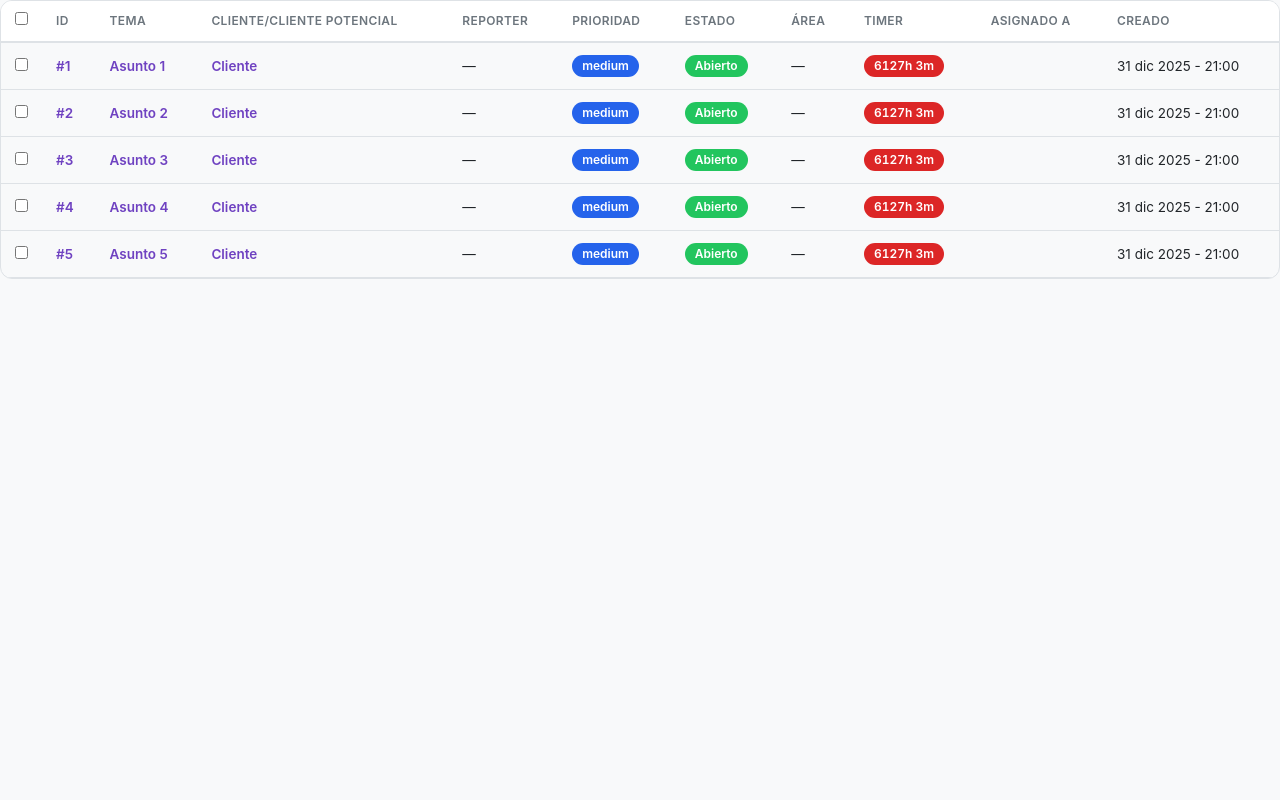
Test: TicketsTableView — bulk execution › partial failure (2/5): toast "2 de 5 no se pudieron asignar" and only failed ids stay selected
Click the checkbox named "Seleccionar todos" at (22, 18), box [15,12,28,25]
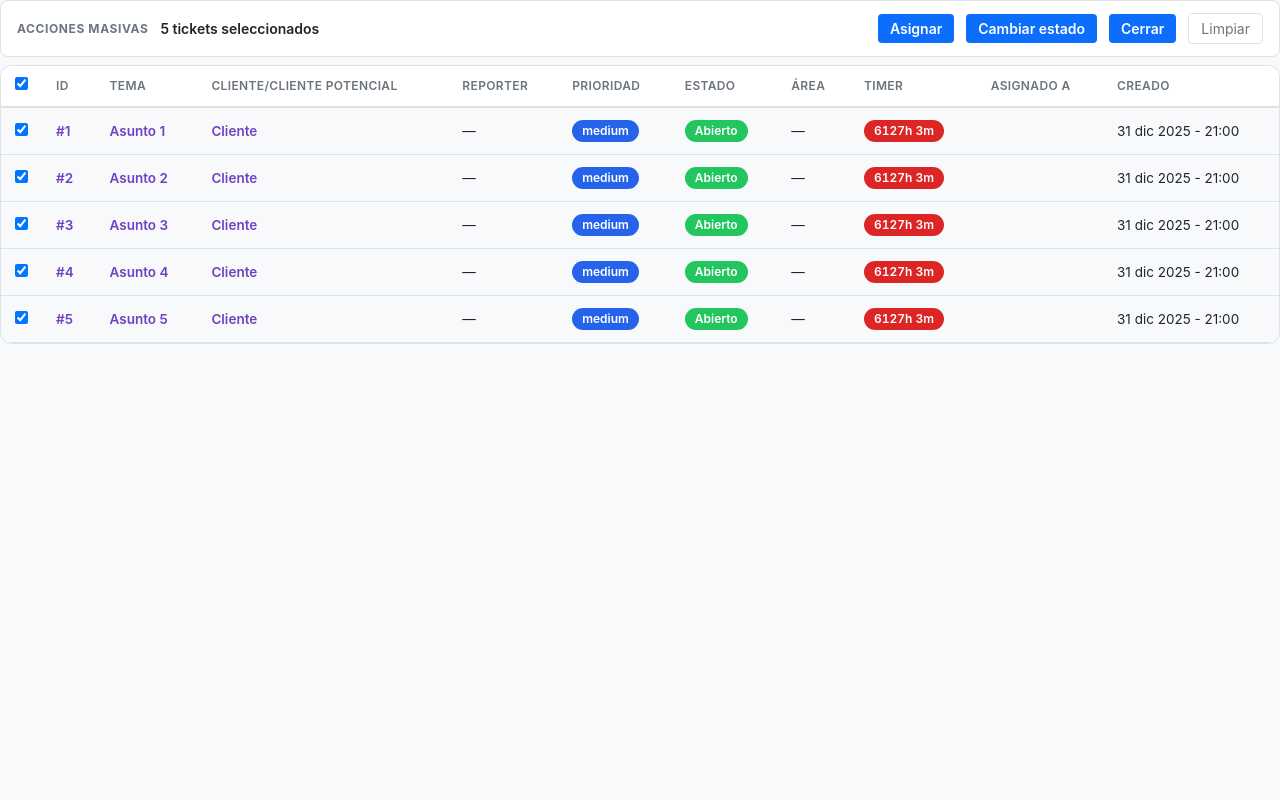
Click the button "Asignar" at (916, 28), box [878,14,954,43]
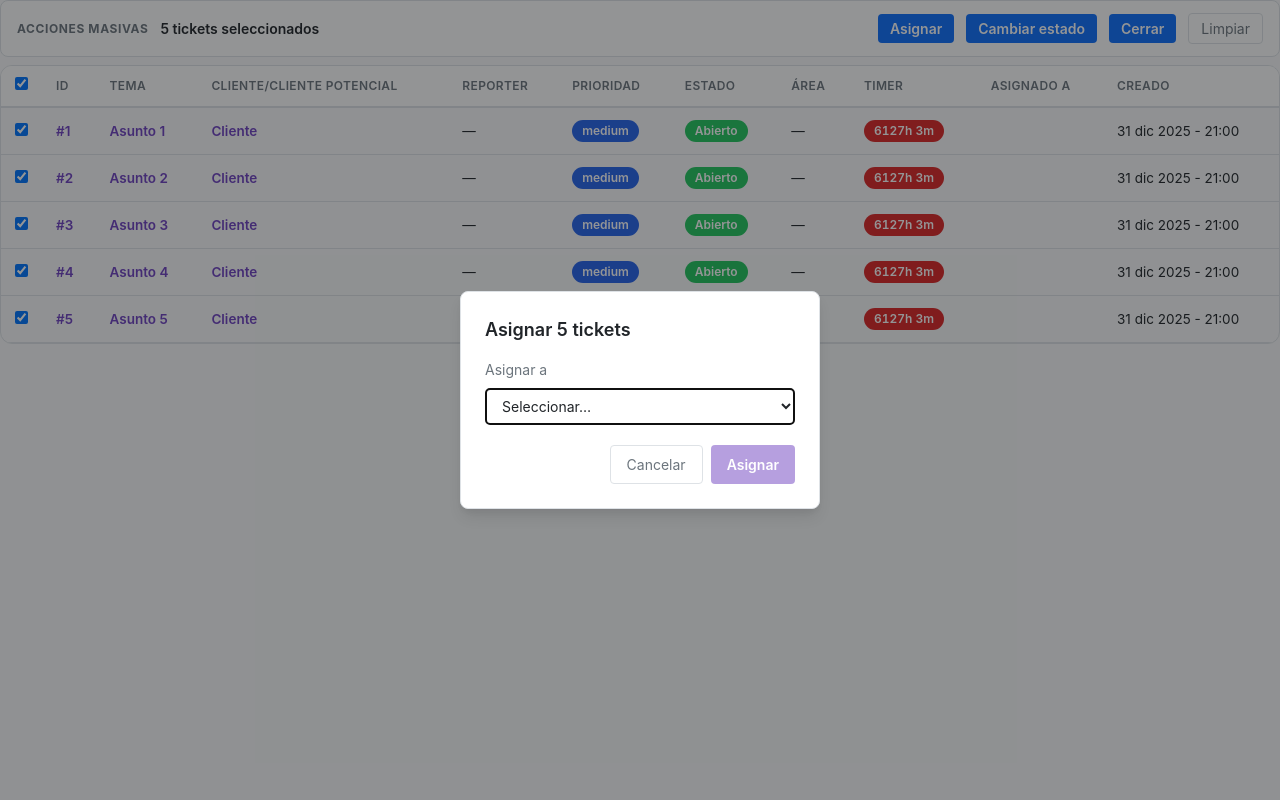
Select "Luis" in the dropdown at (640, 406), box [485,388,795,425]
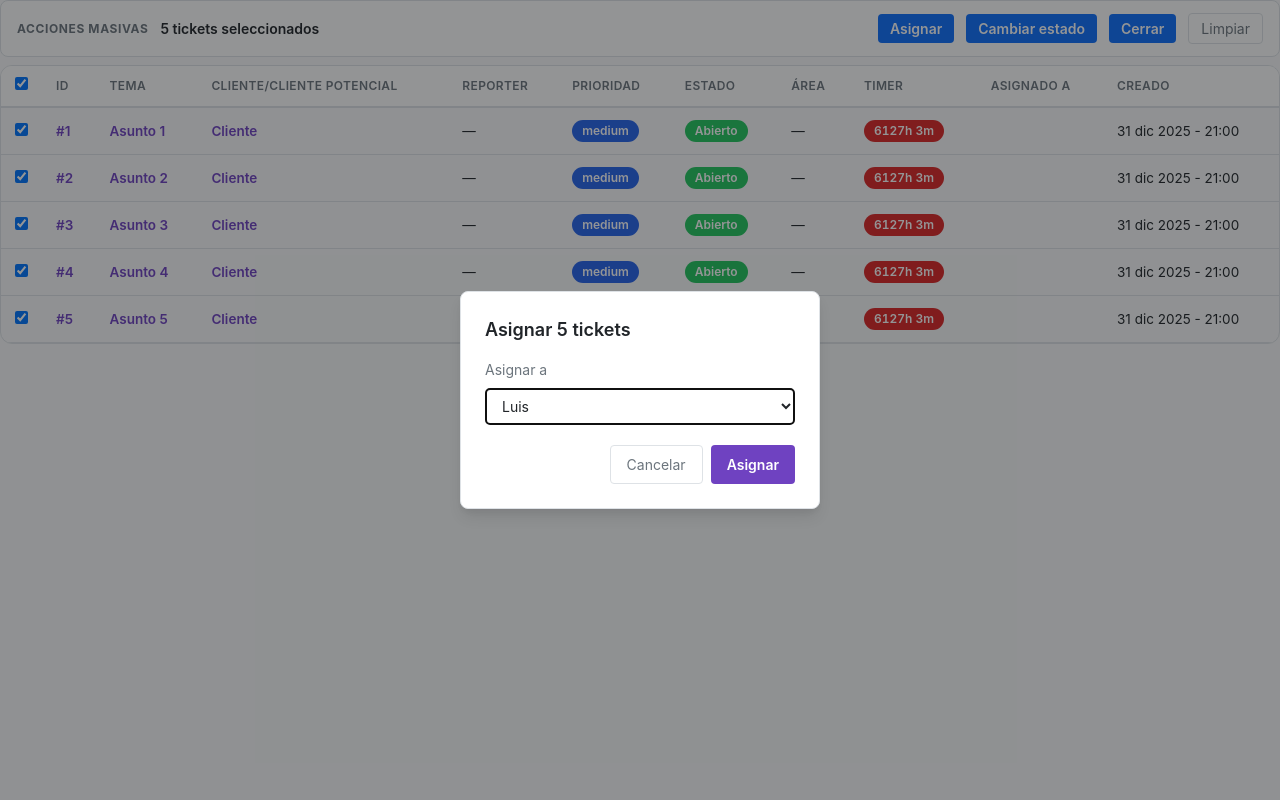
Click the button "Asignar" at (753, 464), box [711,445,795,484]
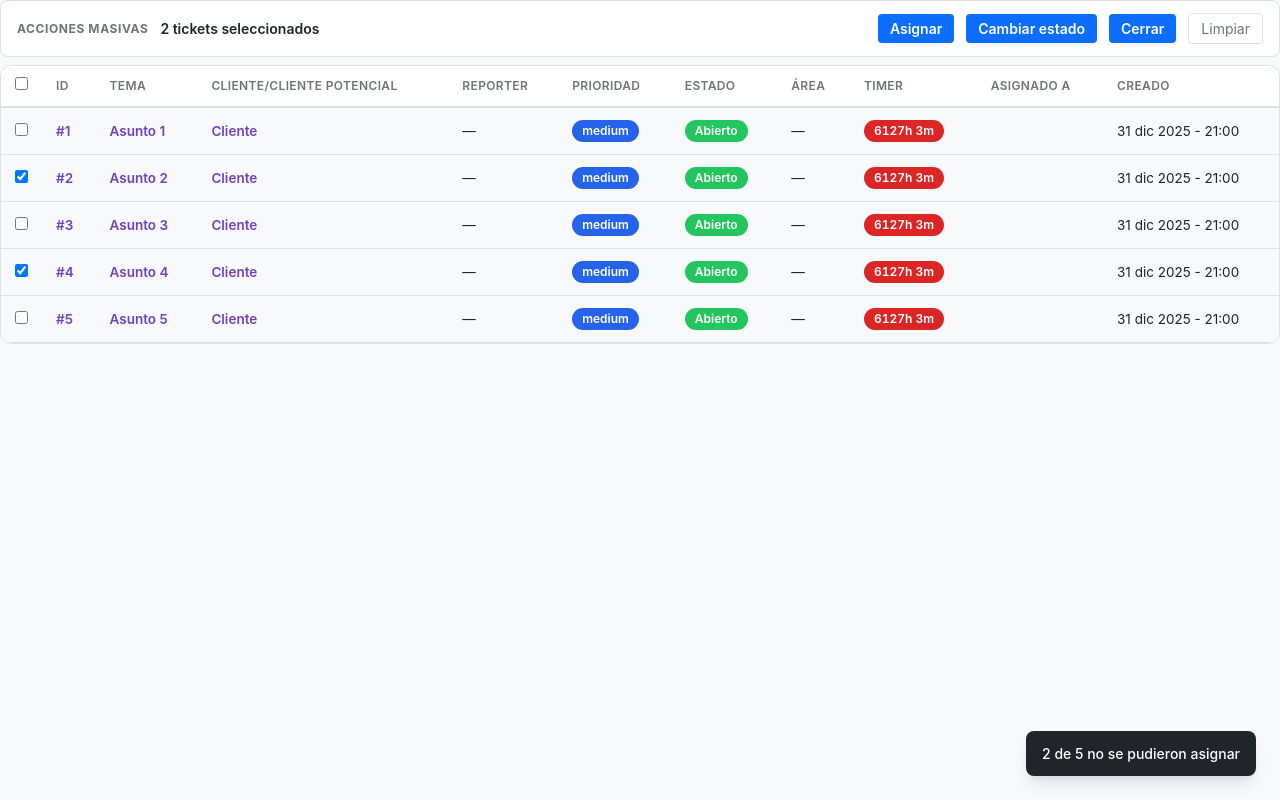
Now the text "2 de 5 no se pudieron asignar" is shown, box [1026,731,1256,776]
Now the text "2 tickets seleccionados" is shown, box [160,20,319,37]
